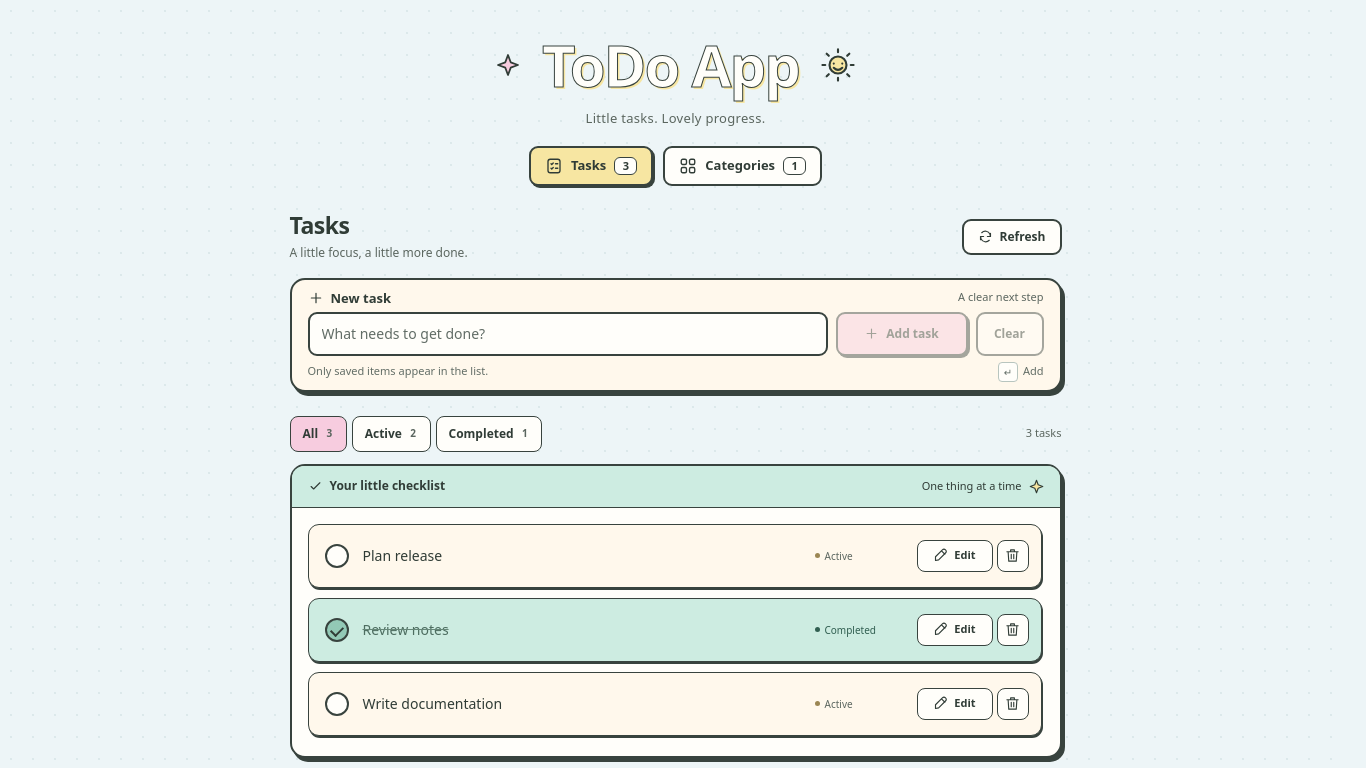
Test case: keeps unsaved edits after FastAPI validation errors and allows retry
The width and height of the screenshot is (1366, 768).
Expected: the text "Plan release" is shown, left=362, top=546, right=442, bottom=565
Click the button with aria-label "Edit task “Plan release”" at (954, 556), box left=916, top=540, right=992, bottom=572
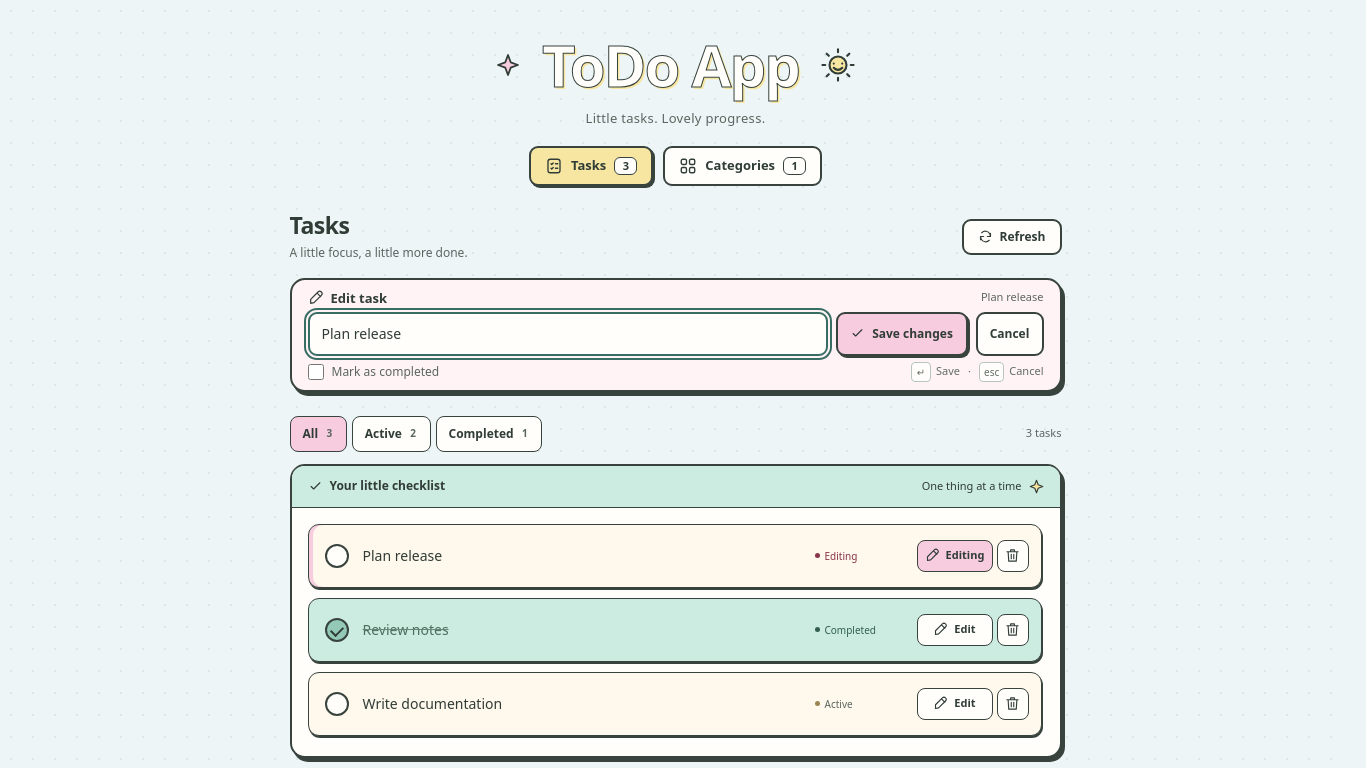
Replace the text in the field named "Task title" with "Changed title" at (568, 334), box left=308, top=312, right=828, bottom=356
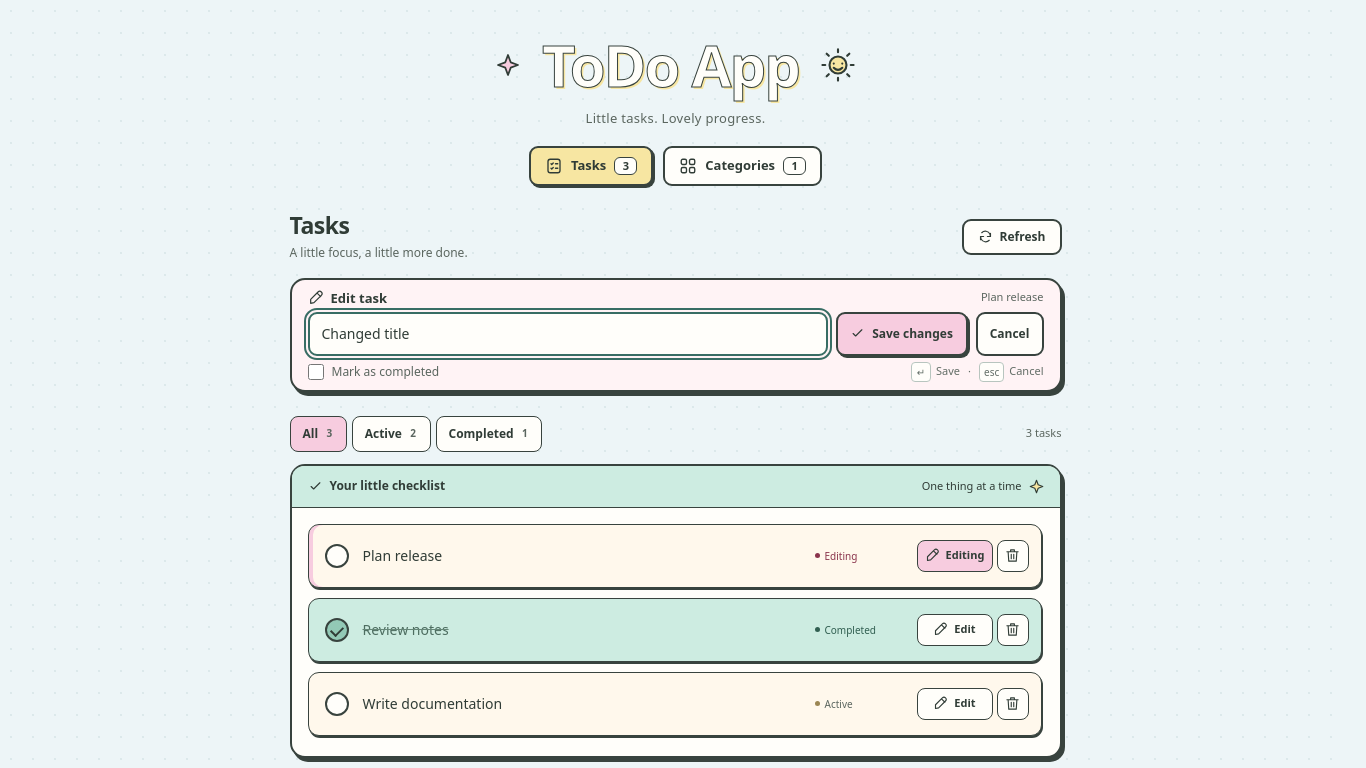
Click the button "Save changes" at (902, 334), box left=836, top=312, right=968, bottom=356
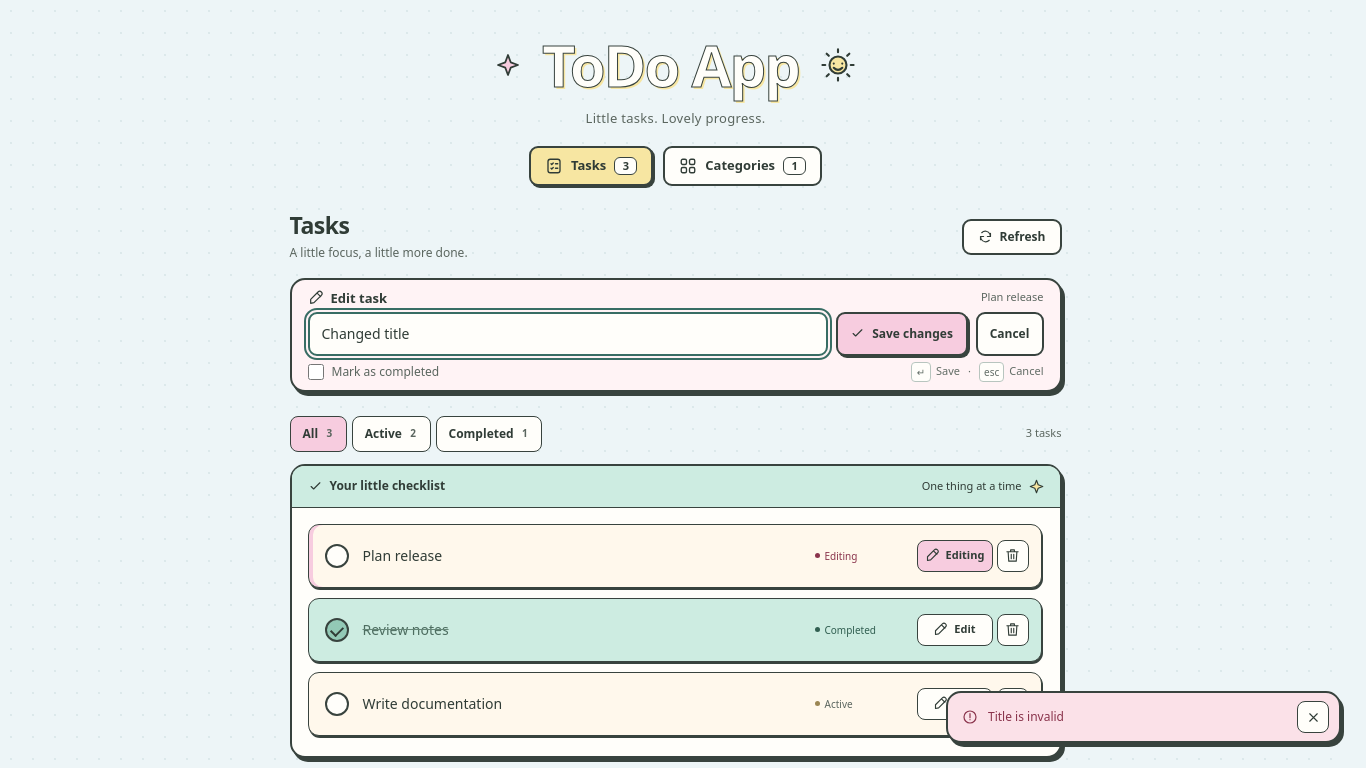
Result: the heading "Edit task" is shown at left=330, top=288, right=387, bottom=308
Result: the message "Title is invalid" is shown at left=946, top=691, right=1341, bottom=743
Click the button "Save changes" at (902, 334), box left=836, top=312, right=968, bottom=356
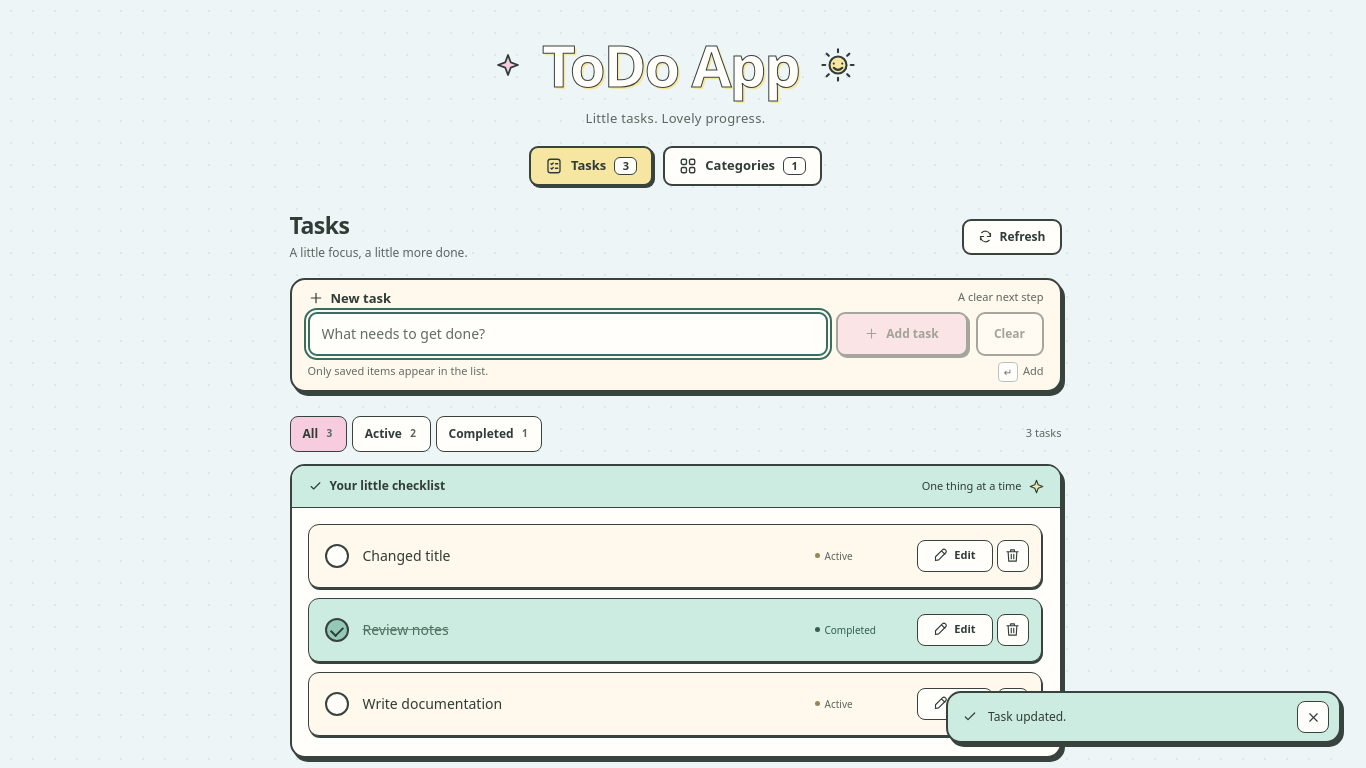
Result: the text "Task updated." is shown at left=988, top=708, right=1066, bottom=725
Result: the text "Changed title" is shown at left=362, top=546, right=450, bottom=565
